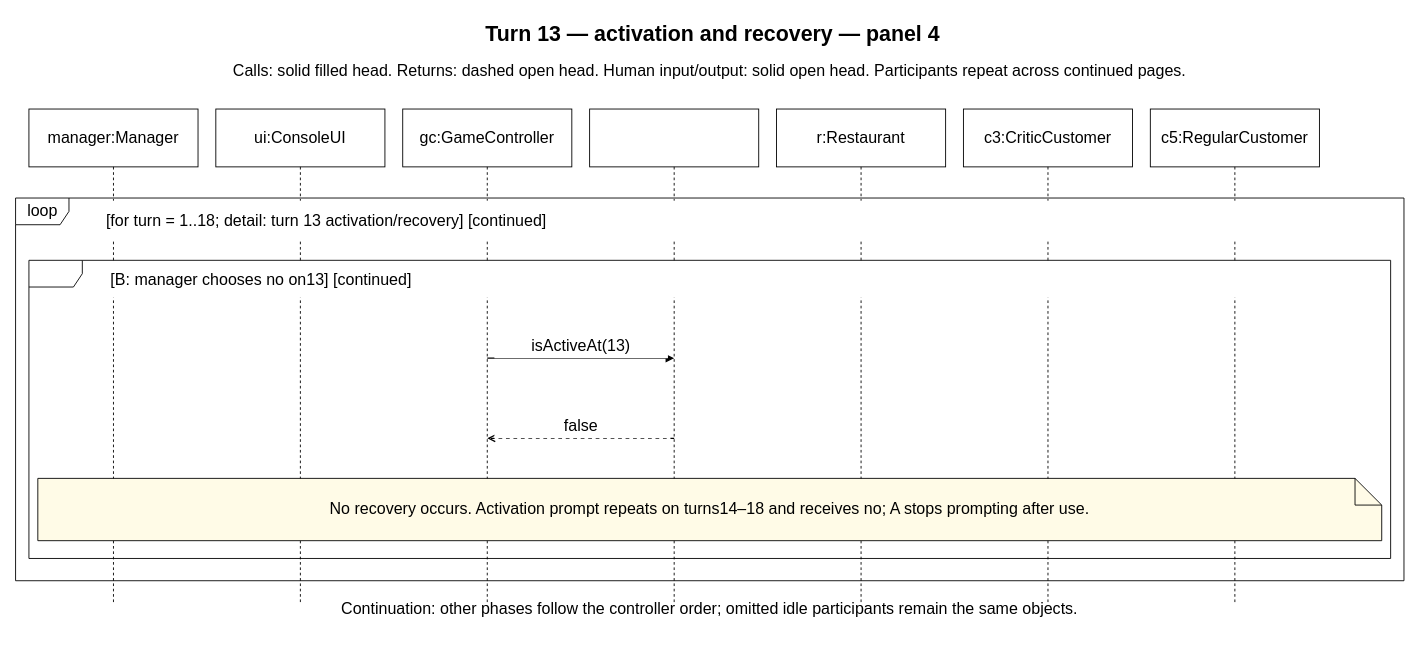
Some shapes in this 1420 by 662 pixel diagram are drawn without their labels. Here are the shapes that lost their labels. From the top down, the box of each, then its label:
(589, 108, 759, 603): hh:HappyHour
(28, 259, 1391, 558): alt
